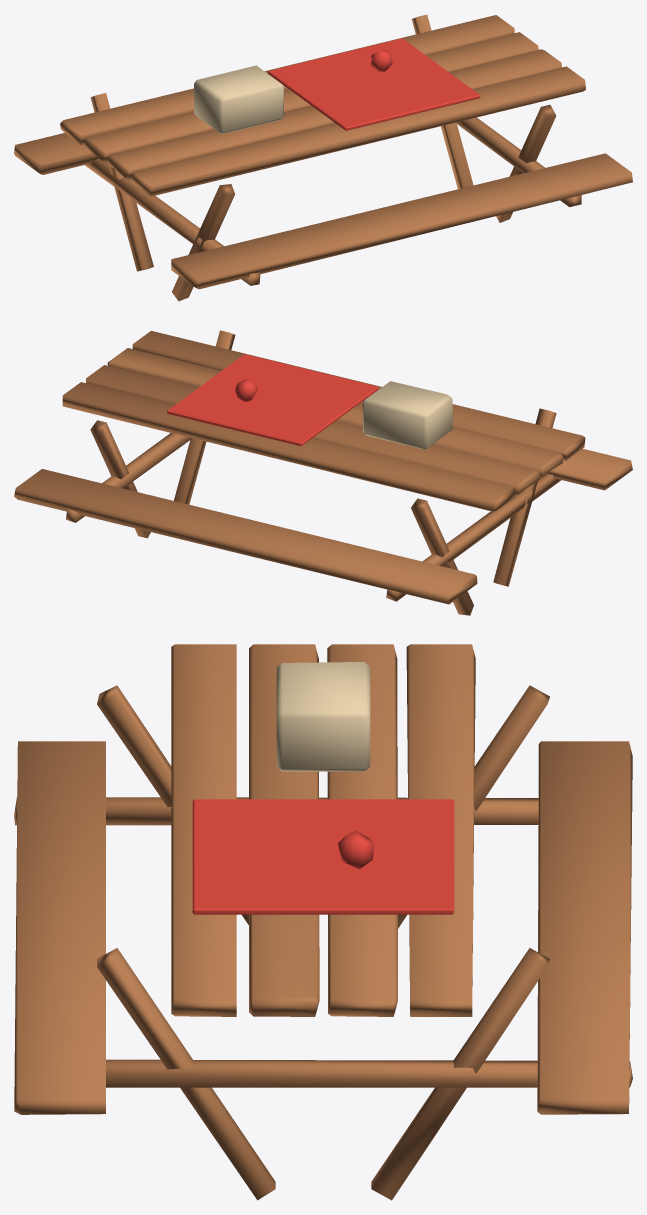
Rendered from picnic_table.glb.
The picture shows the model from 3 angles, top to bottom: view 1: azimuth 30°, elevation 25°; view 2: azimuth 150°, elevation 25°; view 3: azimuth 270°, elevation 25°; orthographic projection. The views are drawn at different scales.
Parts seen in each view (by area): view 1: picnic_table; view 2: picnic_table; view 3: picnic_table.
Part boxes in pixels (box(x1,y1,x2,y2)): picnic_table: box(14, 14, 632, 301); picnic_table: box(14, 330, 632, 615); picnic_table: box(14, 644, 632, 1200).
Size of the model in its own units: 2.59 by 1.05 by 1.89.
Materials: 1 (1 with a texture image).
